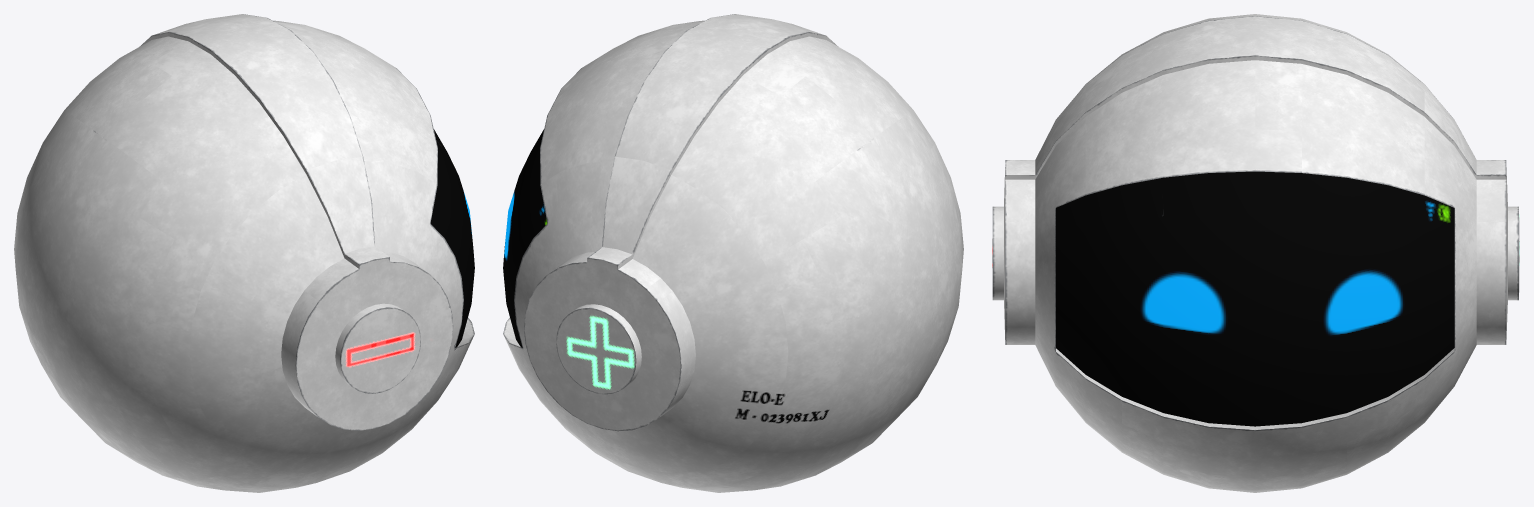
The model's file is robot-head.glb.
3 views of the same model, side by side, from view 1: azimuth 30°, elevation 25°; view 2: azimuth 150°, elevation 25°; view 3: azimuth 270°, elevation 25° (orthographic).
Parts seen in each view (by area): view 1: Sphere001; view 2: Sphere001; view 3: Sphere001.
Part boxes in pixels (x1,y1,x2,y2): Sphere001: (14,14,474,492); Sphere001: (503,14,963,492); Sphere001: (992,14,1519,492).
Bounding box in the file's own units: 0.3968 × 0.414 × 0.4507.
Materials: 1 (1 with a texture image).
